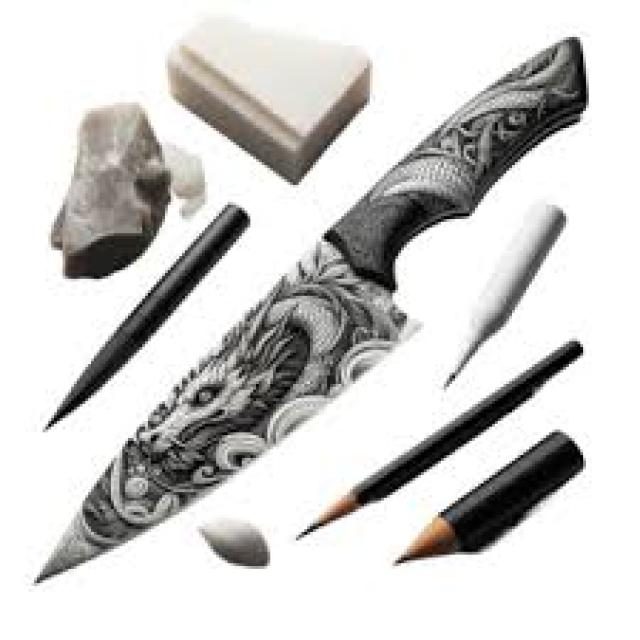Knife: (31, 31, 589, 583)
